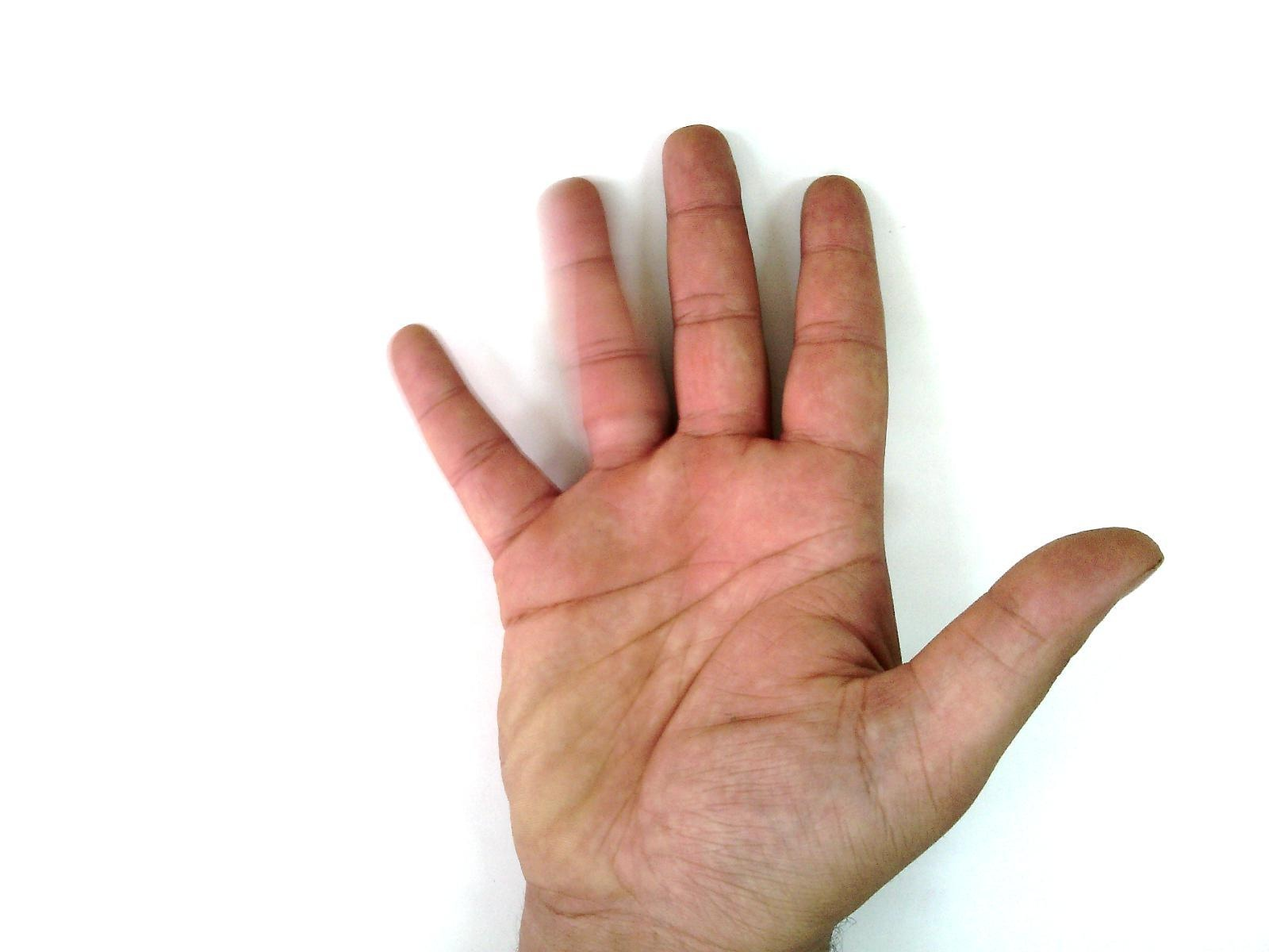open_palm: (384, 123, 1166, 951)
